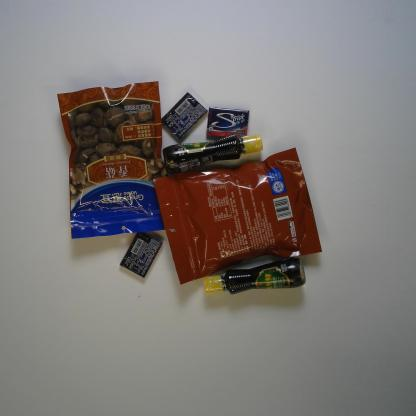Dried Food: (153, 144, 322, 286), (56, 80, 166, 240)
Gum: (160, 90, 208, 140), (120, 232, 163, 279), (206, 106, 250, 139)
Seasoner: (162, 133, 264, 176), (203, 256, 306, 295)
